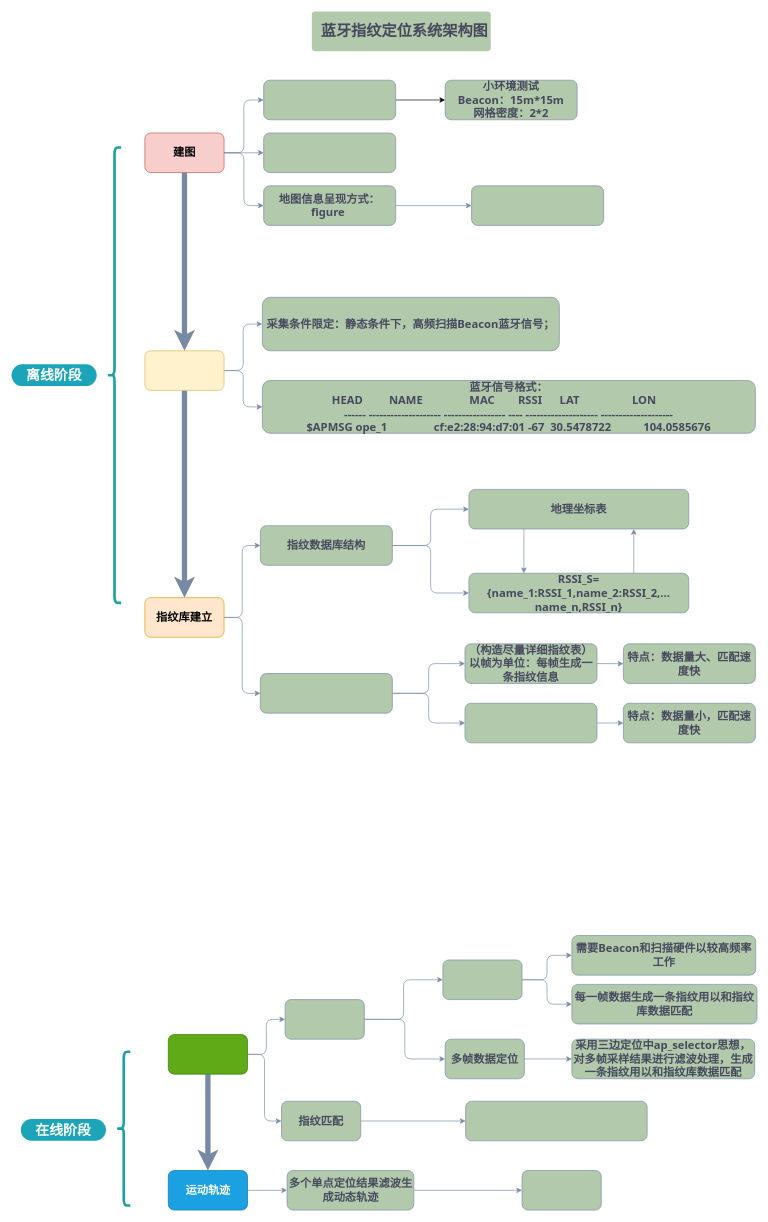
This 768x1222 diagram has some shape labels left out. The shapes that lost their labels are listed below. From the top down, each one's box as (x1, y1, x2, y2) in pixels, then its label:
(263, 80, 396, 120): 小环境测试 Beacon：7.8m*7.8m 网格密度：1*1
(263, 132, 396, 173): Beacon坐标已知，建立相对坐标系
(471, 185, 604, 225): 涉及过程：离线RSSI分析、定位过程展示
(144, 350, 224, 390): 数据采集
(260, 673, 392, 713): 指纹数据构建方法
(464, 703, 597, 743): （精简指纹表）以帧为单位：每帧生成一条指纹信息
(442, 959, 522, 1000): 单帧数据定位
(284, 999, 364, 1039): 蓝牙信号扫描
(168, 1034, 248, 1074): 定位阶段
(465, 1101, 647, 1141): wknn（weighted k nearest neighbor）算法
(521, 1170, 601, 1210): 需要完善硬件平台功能
